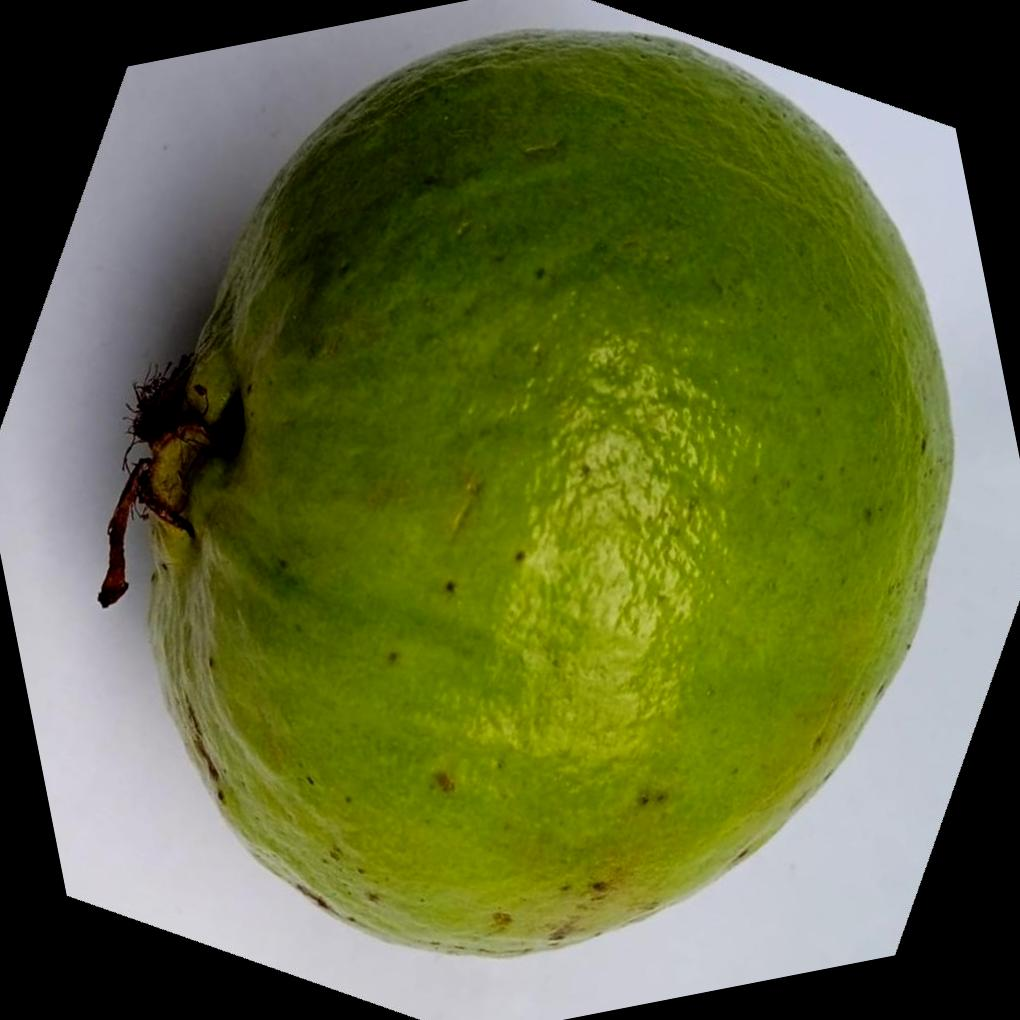FreshGuava: (98, 24, 956, 957)
